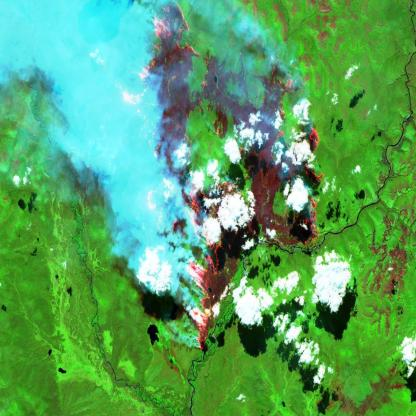fire: (131, 0, 327, 355)
